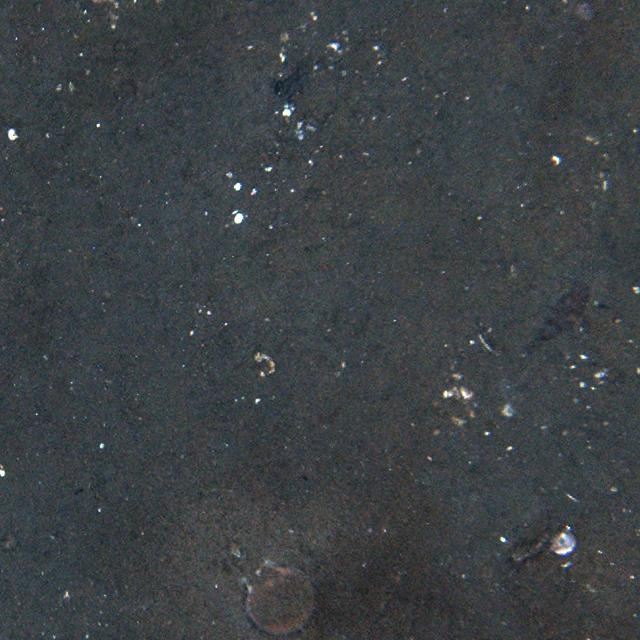flatfish: (522, 278, 592, 357)
